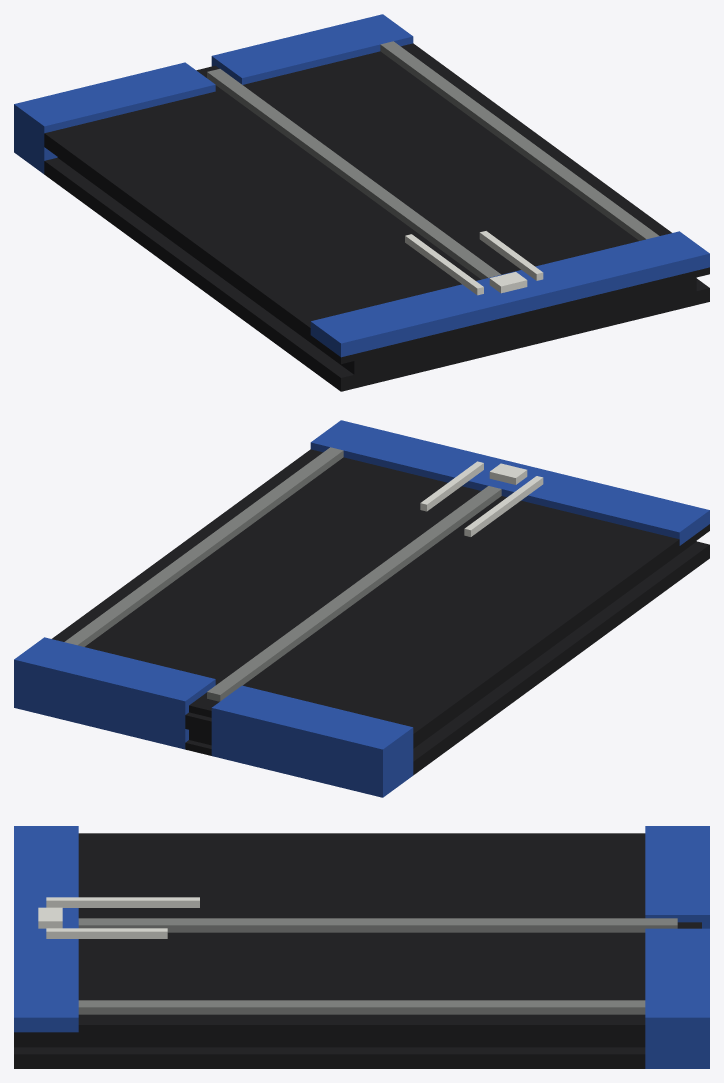
Rendered from wetsuit_pants_thin.glb.
3 renders of one model, top to bottom at view 1: azimuth 30°, elevation 25°; view 2: azimuth 150°, elevation 25°; view 3: azimuth 270°, elevation 25°, orthographic. The views are drawn at different scales.
Visible parts, largest first — view 1: wetsuit_pants_thin:compound; view 2: wetsuit_pants_thin:compound; view 3: wetsuit_pants_thin:compound.
Part boxes in pixels (x1=…): wetsuit_pants_thin:compound: x1=14, y1=14, x2=709, y2=391; wetsuit_pants_thin:compound: x1=14, y1=420, x2=709, y2=797; wetsuit_pants_thin:compound: x1=14, y1=826, x2=709, y2=1068.
Bounding box in the file's own units: 0.224 × 0.032 × 0.344.
